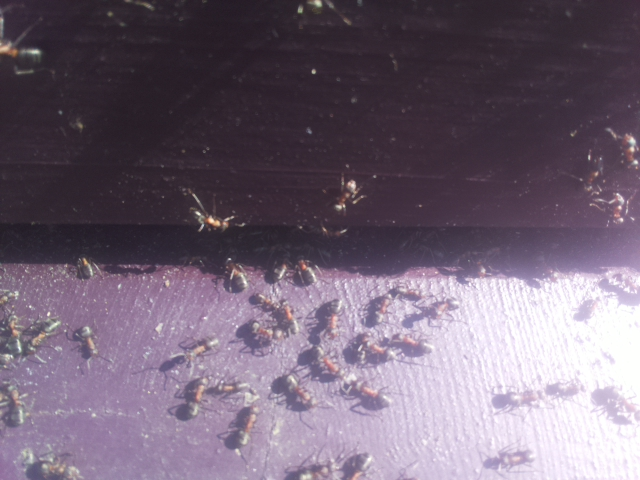ant: (600, 115, 640, 180), (0, 29, 49, 78), (346, 375, 399, 414), (174, 332, 226, 369), (178, 203, 237, 235), (281, 370, 323, 412), (24, 315, 67, 355), (217, 253, 255, 297), (232, 401, 262, 453), (1, 378, 31, 430), (182, 372, 213, 422), (478, 446, 535, 472), (334, 451, 380, 480), (331, 173, 359, 218), (320, 296, 348, 341), (243, 317, 283, 348), (74, 321, 99, 364), (67, 253, 99, 284), (278, 301, 303, 339), (604, 188, 627, 229), (250, 290, 281, 314), (0, 288, 18, 308)
